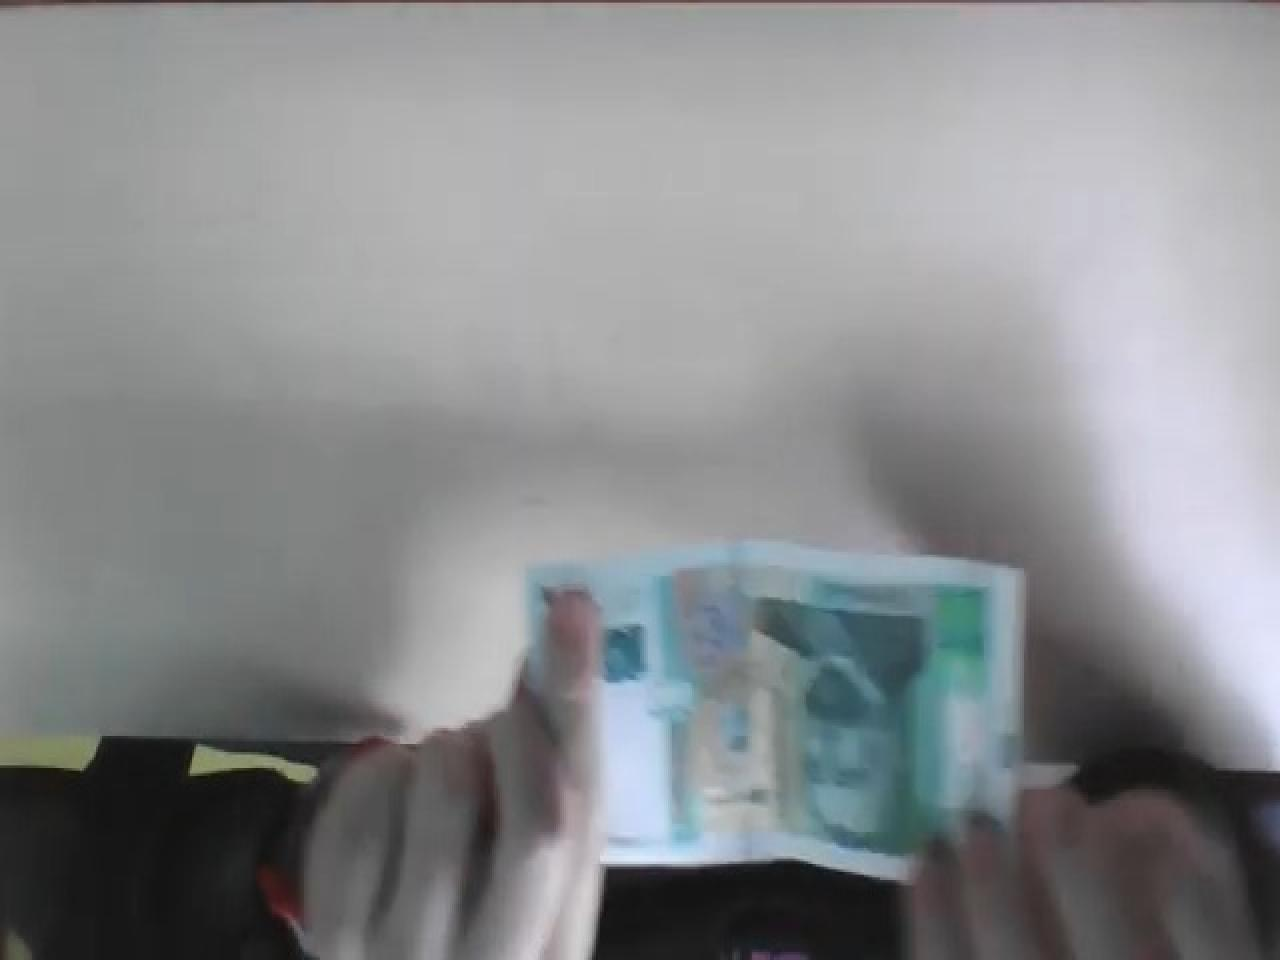100leva: (528, 542, 1030, 882)
